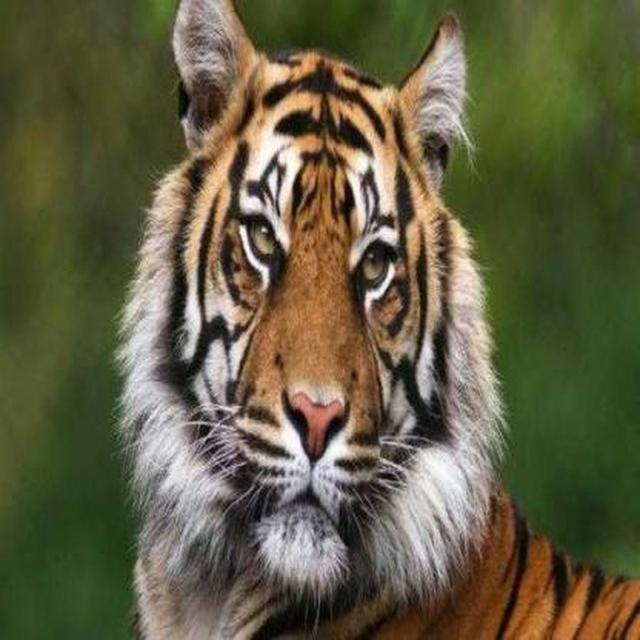tiger: (109, 0, 639, 639)
